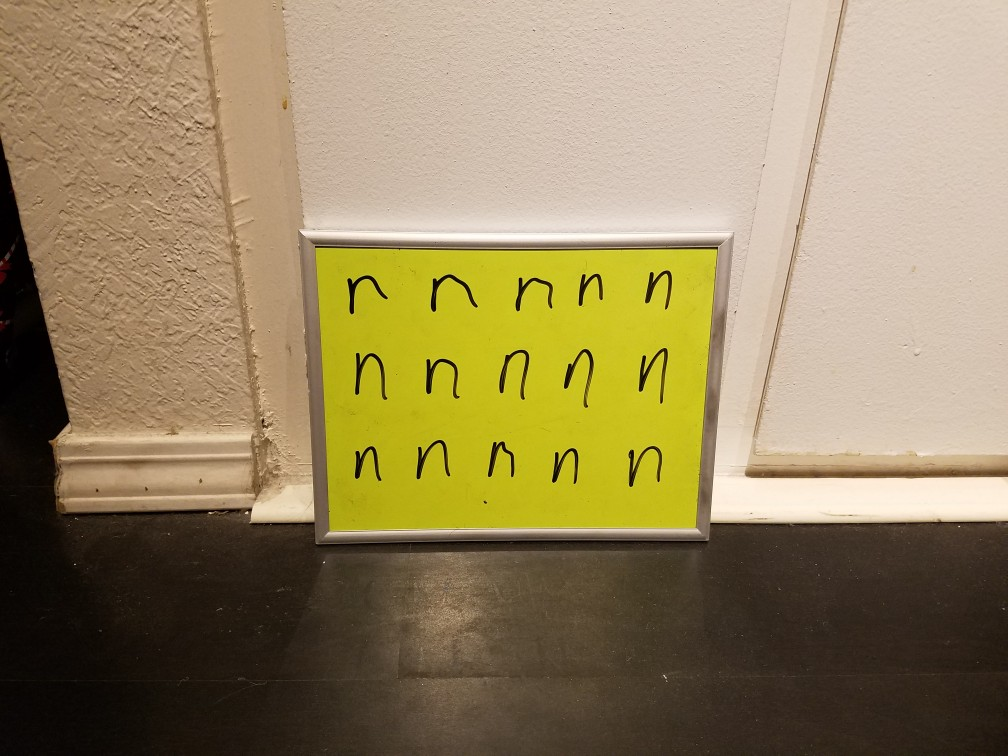n: (621, 330, 680, 409), (417, 260, 481, 322), (412, 342, 470, 410), (610, 433, 669, 498), (342, 338, 393, 413), (492, 339, 542, 413), (405, 427, 460, 492), (342, 433, 394, 501), (554, 341, 601, 412), (633, 263, 687, 323), (504, 265, 559, 323), (541, 436, 594, 495), (486, 428, 530, 494), (344, 264, 392, 322), (571, 265, 616, 317)
